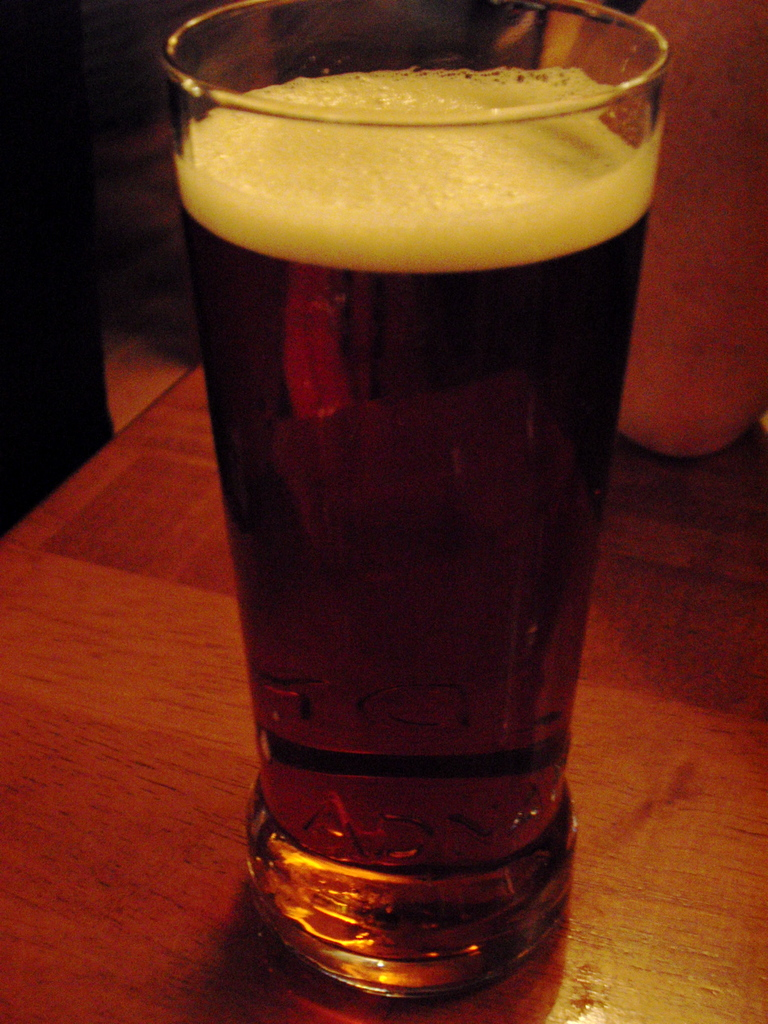Beer: (156, 0, 670, 999)
